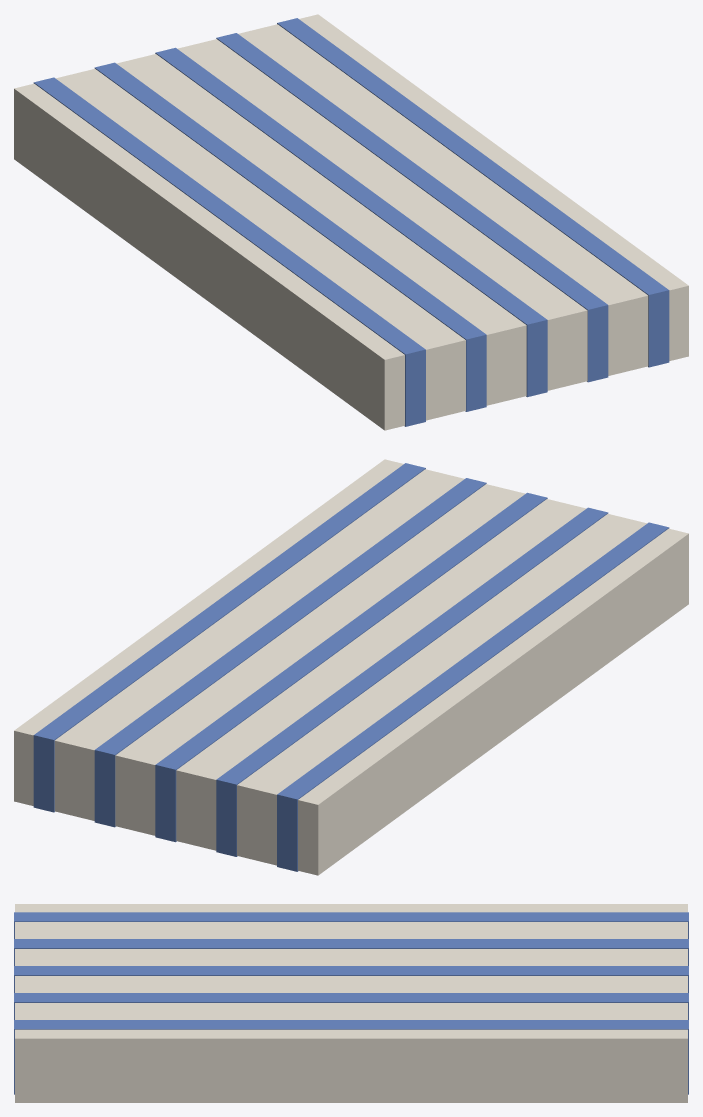
Rendered from mattress.glb.
3 renders of one model, top to bottom at view 1: azimuth 30°, elevation 25°; view 2: azimuth 150°, elevation 25°; view 3: azimuth 270°, elevation 25°, orthographic. The views are drawn at different scales.
Visible parts, largest first — view 1: pad_mattress_white, stripes_mattress_blue (×5); view 2: pad_mattress_white, stripes_mattress_blue (×5); view 3: pad_mattress_white, stripes_mattress_blue (×5).
Part boxes in pixels (<box>): pad_mattress_white: <box>14,14,688,430</box>; stripes_mattress_blue (×5): <box>33,18,669,426</box>; pad_mattress_white: <box>14,459,688,875</box>; stripes_mattress_blue (×5): <box>33,463,669,871</box>; pad_mattress_white: <box>15,904,687,1102</box>; stripes_mattress_blue (×5): <box>14,912,688,1094</box>.
Size of the model in its own units: 0.9 by 0.205 by 1.9.
